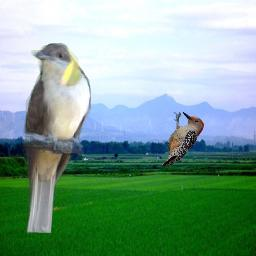Cuckoo: (21, 43, 91, 233)
Woodpecker: (162, 112, 204, 166)
